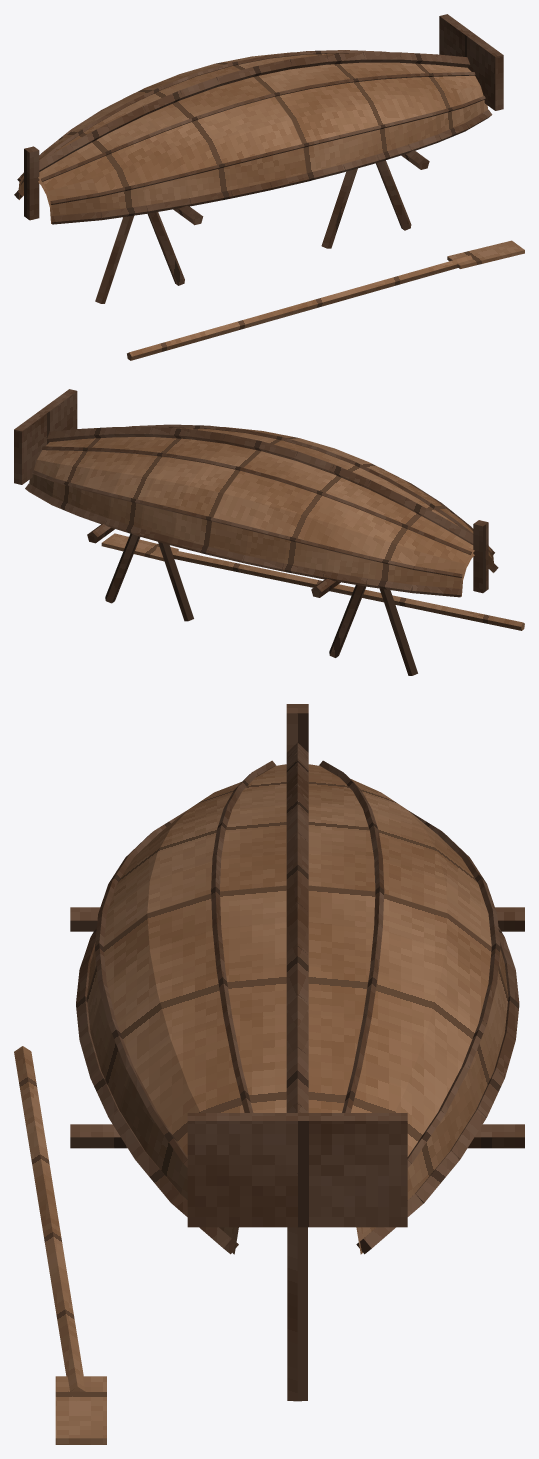
File: rowboat.glb
The picture shows the model from 3 angles, top to bottom: view 1: azimuth 30°, elevation 25°; view 2: azimuth 150°, elevation 25°; view 3: azimuth 270°, elevation 25°; orthographic projection. The views are drawn at different scales.
Visible parts, largest first — view 1: body; view 2: body; view 3: body.
Boxes of the visible parts, box(x1,y1,x2,y2) form: body: box(14, 14, 524, 360); body: box(14, 389, 524, 675); body: box(14, 704, 524, 1444).
Size of the model in its own units: 2.77 by 1.18 by 1.39.
2 materials, 2 textured.
